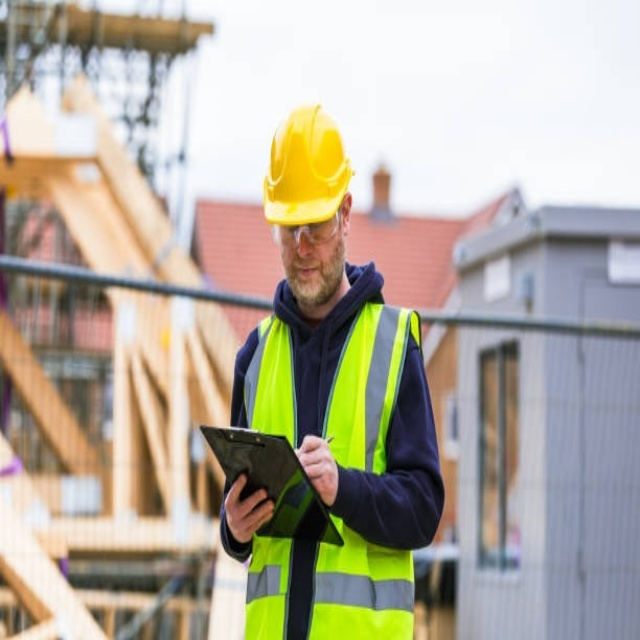Gafas: (268, 205, 342, 249)
Sin_guantes: (224, 469, 274, 543), (295, 433, 338, 506)
Sin_mascara: (289, 257, 326, 292)
